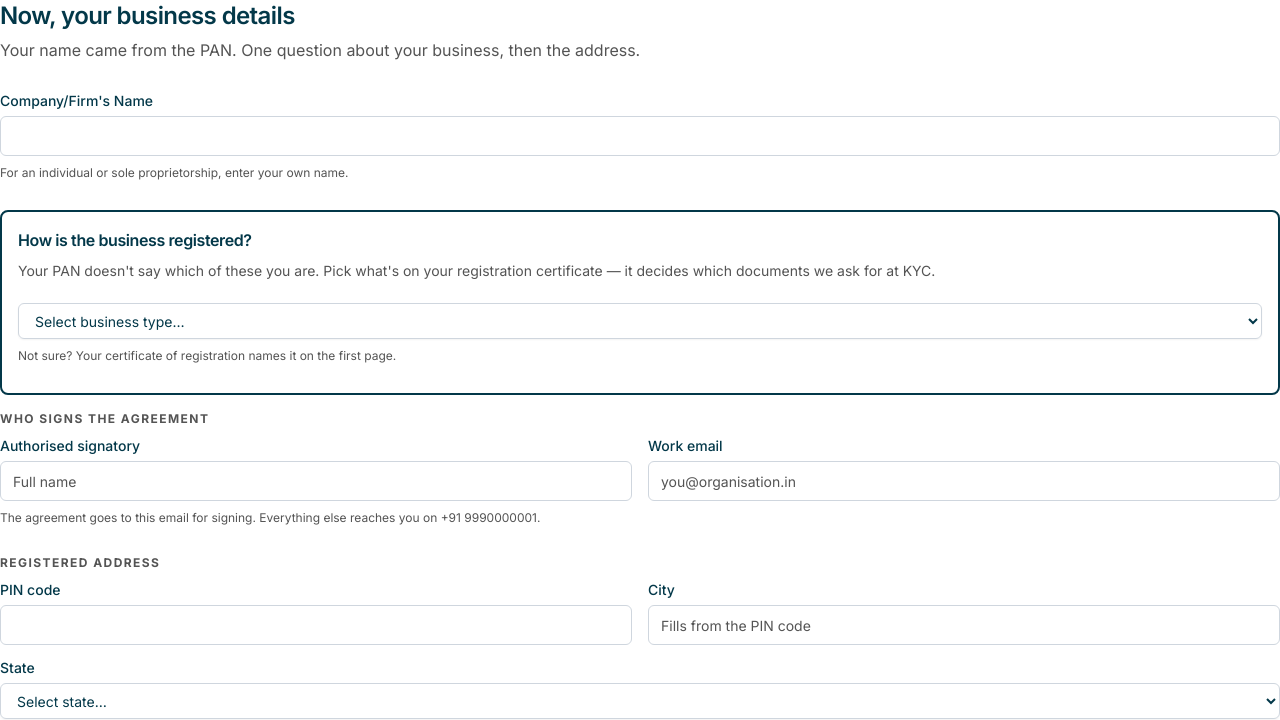
Test: BusinessStep PIN code lookup › does not overwrite an edit made while the lookup is in flight
Type "560001" into the field labelled "PIN code" at [316, 625], box [0, 605, 632, 645]
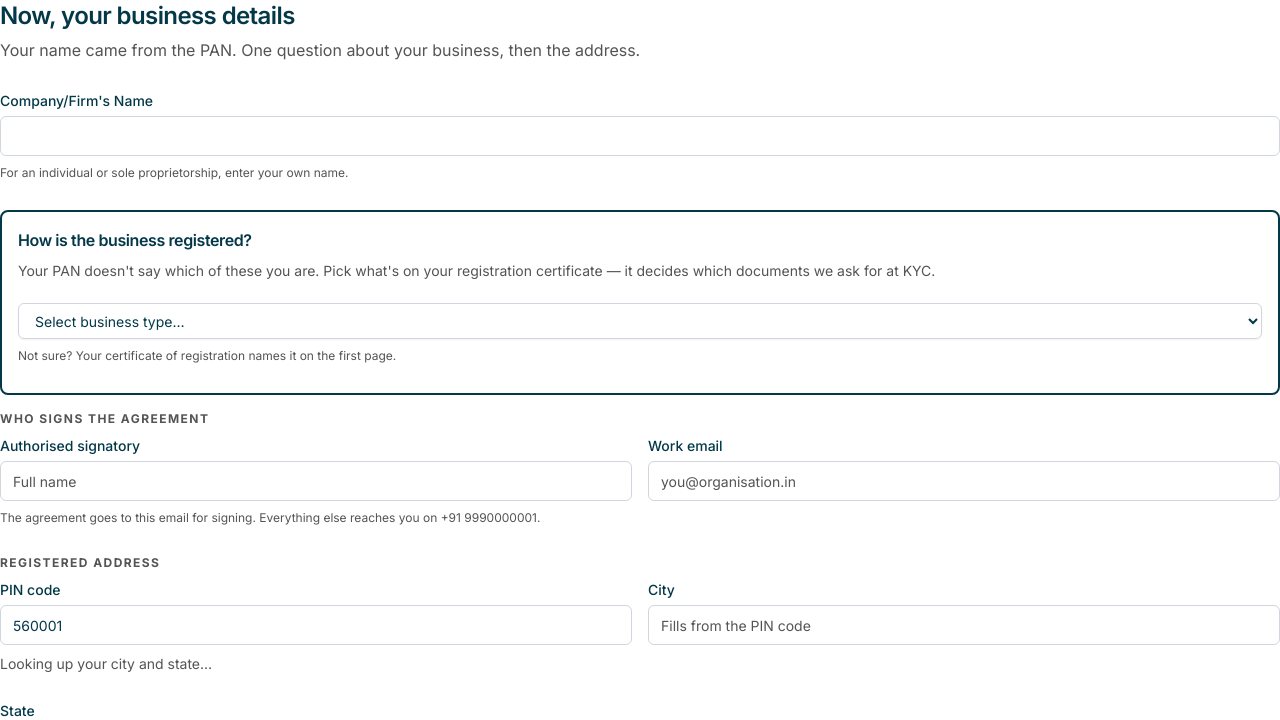
Type "Mysuru" into the field labelled "City" at [964, 625], box [648, 605, 1279, 645]
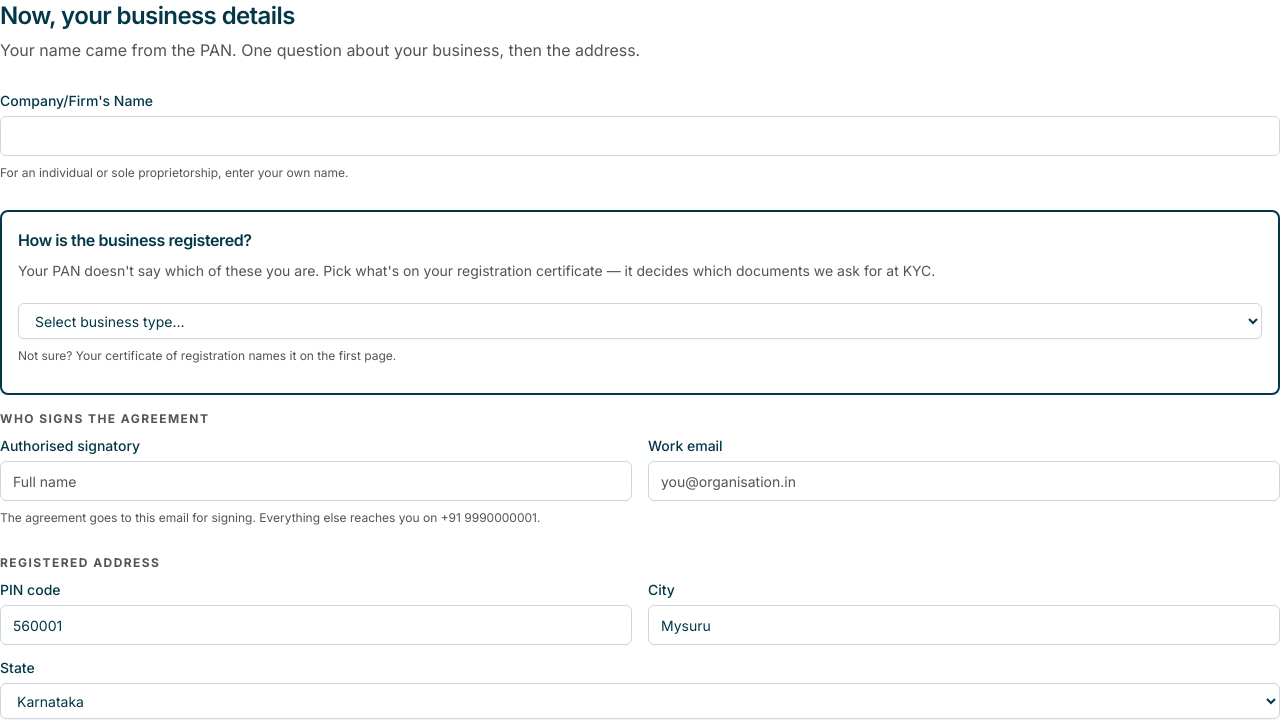
expect the dropdown labelled "State" shows "Karnataka": met, box [0, 683, 1279, 719]
